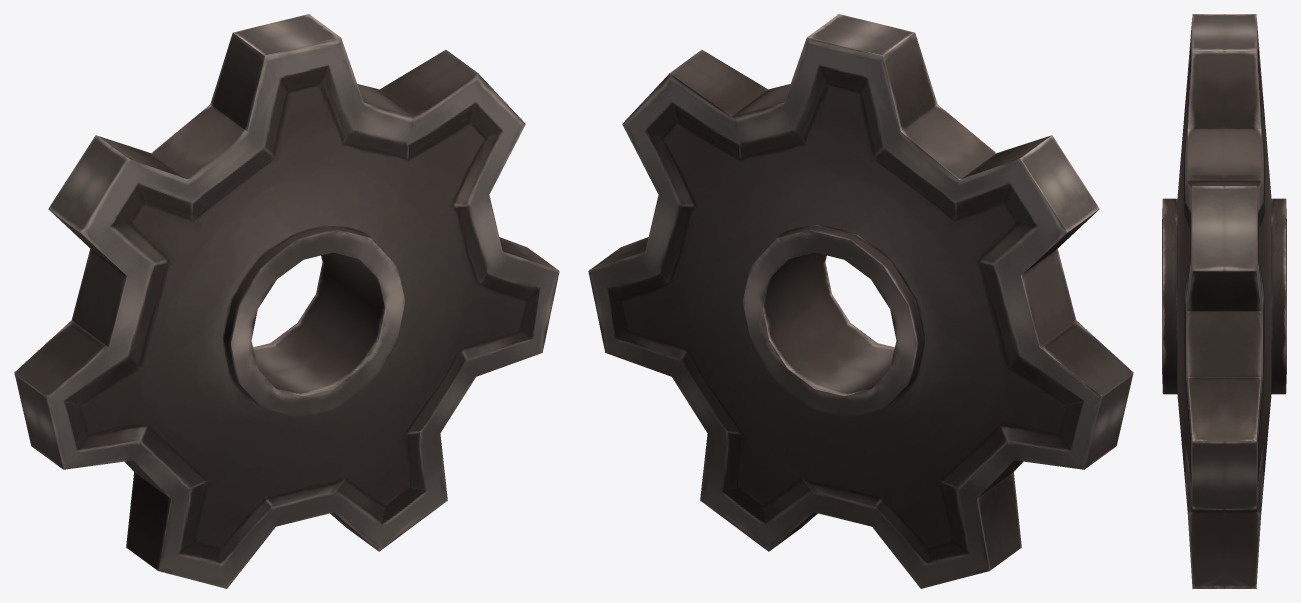
Rendered from 17_gear.FBX.
3 renders of one model, left to right at view 1: azimuth 30°, elevation 25°; view 2: azimuth 150°, elevation 25°; view 3: azimuth 270°, elevation 25°, orthographic.
Parts seen in each view (by area): view 1: 17_gear; view 2: 17_gear; view 3: 17_gear.
Boxes of the visible parts, <box> form: 17_gear: <box>14,14,559,588</box>; 17_gear: <box>588,14,1133,588</box>; 17_gear: <box>1162,14,1286,588</box>.
Bounding box in the file's own units: 49.21 × 47.97 × 10.44.
